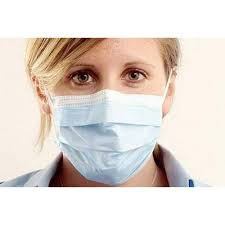mask: (43, 90, 164, 182)
